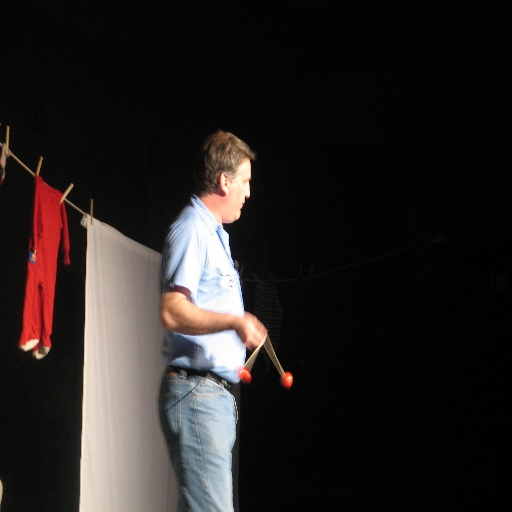hand: (234, 316, 266, 351), (242, 311, 267, 337)
